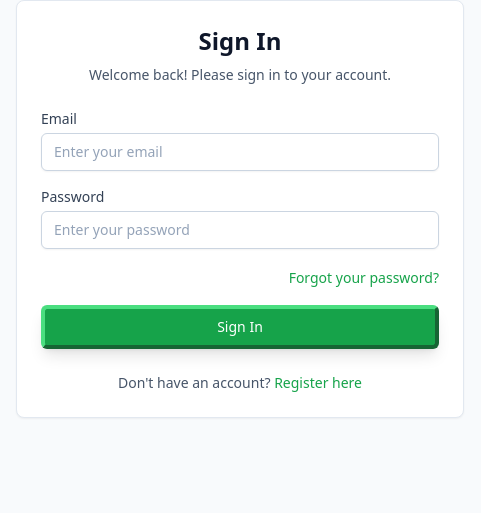
Test case: LoginPage › should dismiss error when close button is clicked
Type "test@example.com" into the field labelled "Email". click: (240, 152)
box: [41,133,439,171]
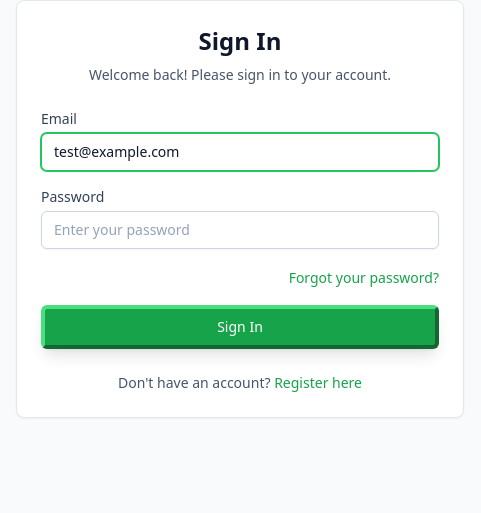
Type "wrong" into the password field labelled "Password". click: (240, 230)
box: [41,211,439,249]
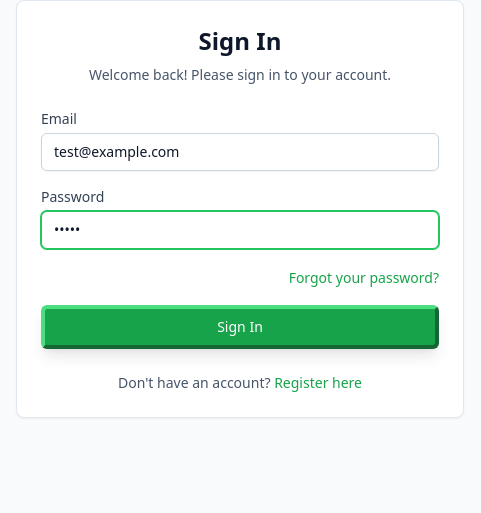
Click the button "Sign In". click: (240, 327)
box: [41,305,439,349]
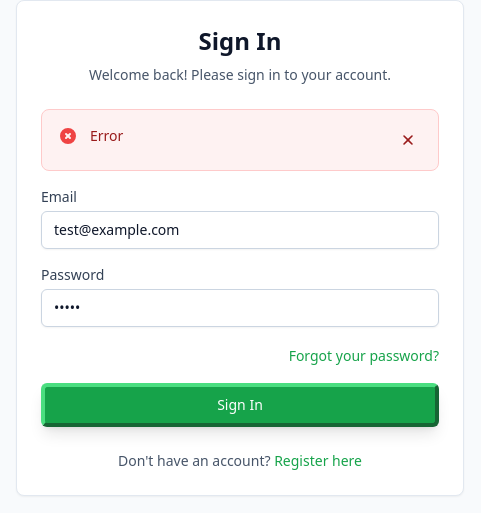
Check: the message "Error" is shown, box [41,109,439,171]
Click the button named "dismiss". click: (408, 140)
box: [394,126,422,154]
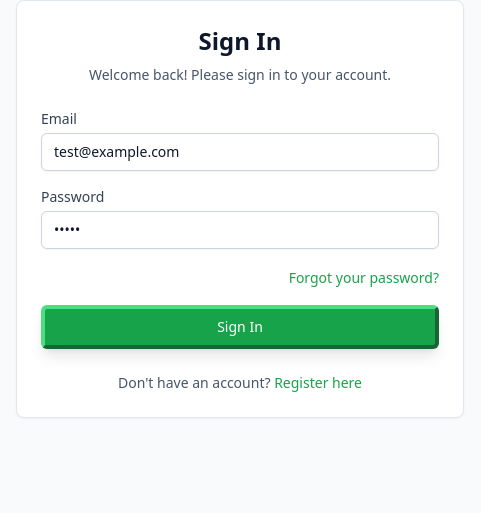
Check: the message "Error" is gone
